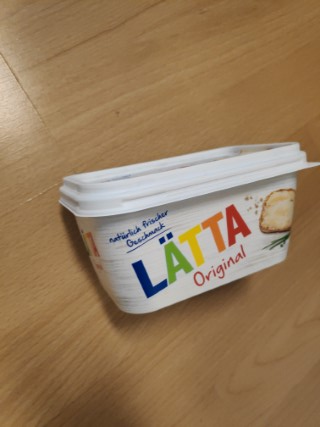laetta: (56, 141, 320, 315)
